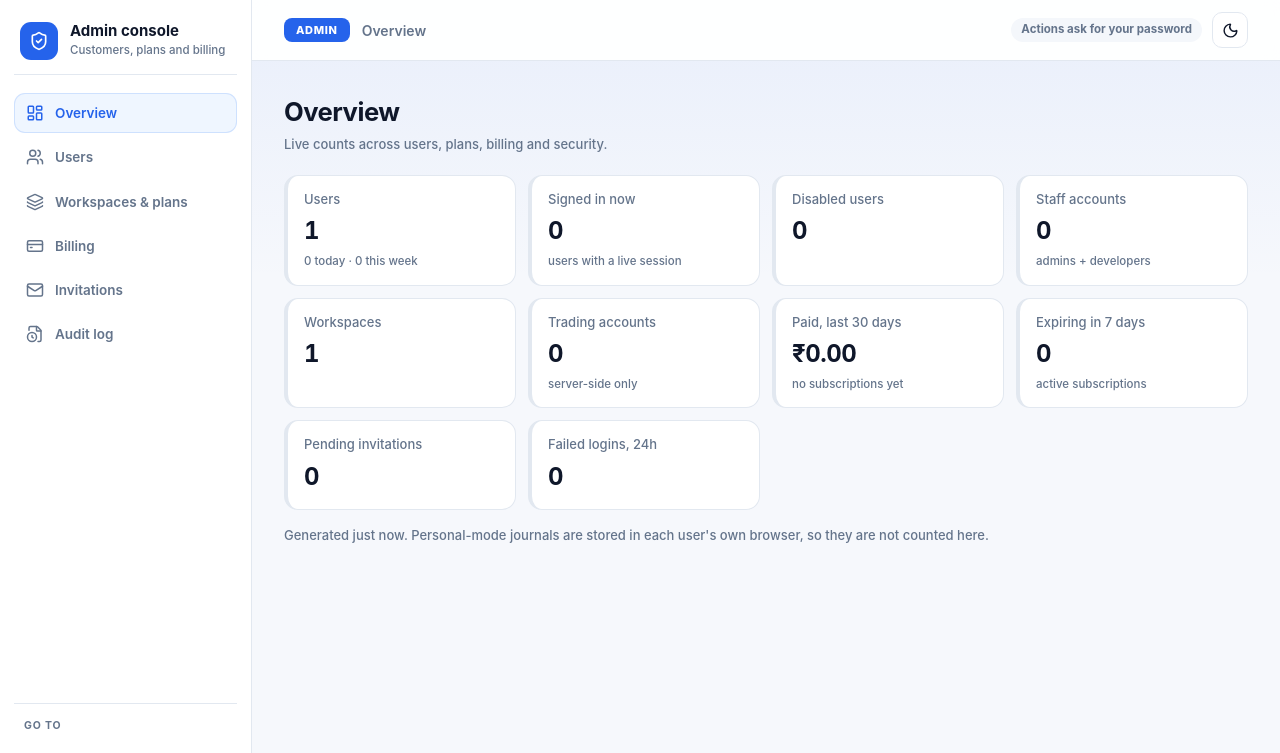
it: Billing: Needs attention › opens on the problems, worst first, with a count on the tab
Click the tab "Billing".
click(126, 246)  # box [14, 226, 237, 266]
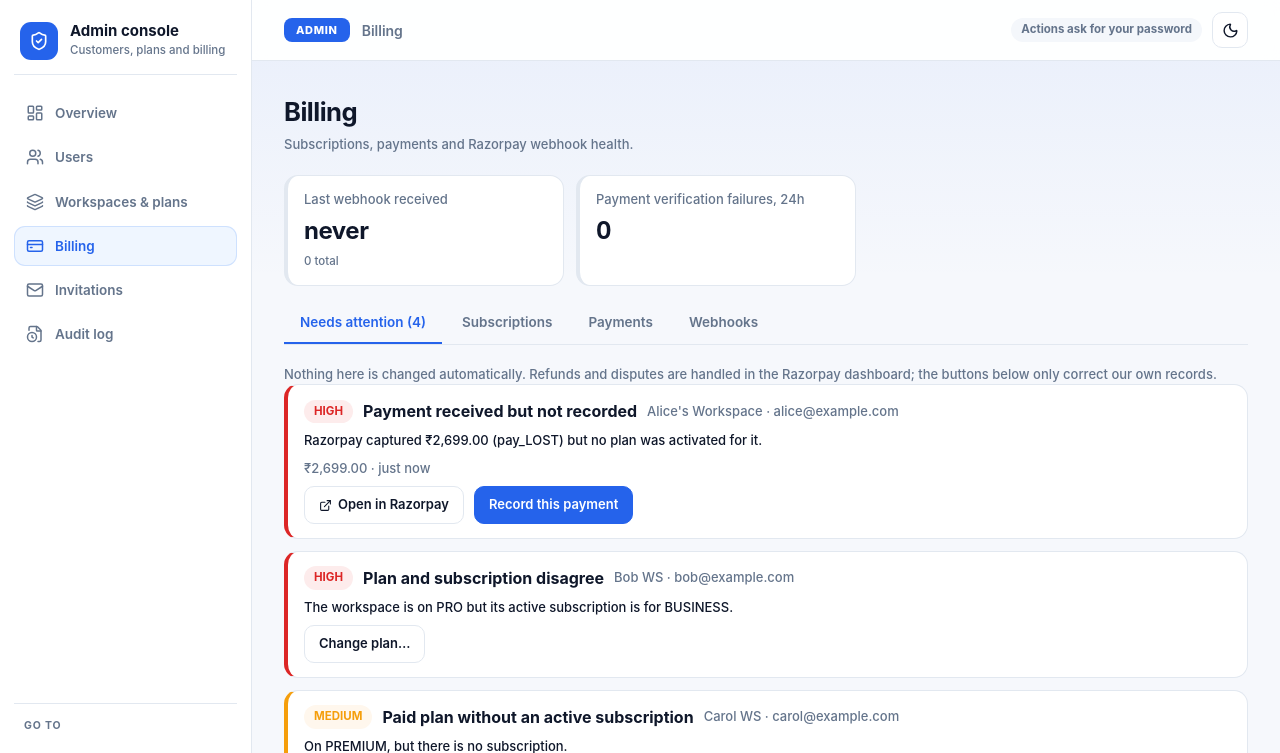
Expected: the tab "Needs attention (4)" is shown, [284, 302, 442, 344]
Expected: the text "HIGH" is shown, [304, 400, 353, 423]
Expected: the text "Alice's Workspace · alice@example.com" is shown, [647, 402, 899, 421]
